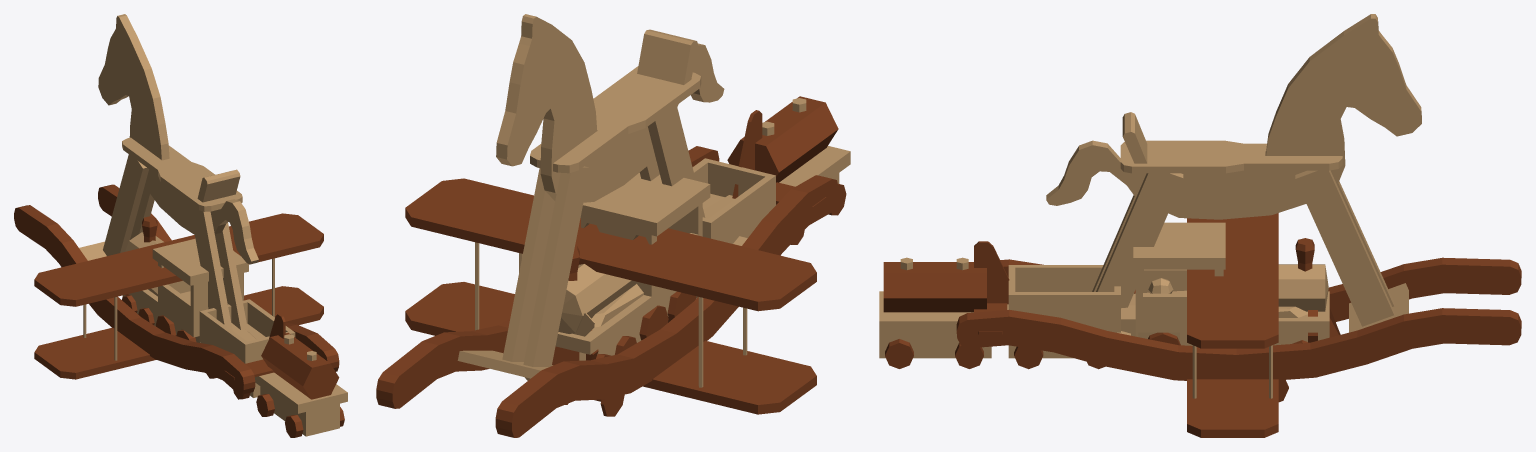
The model's file is Wood_Toys.fbx.
The picture shows the model from 3 angles, left to right: view 1: azimuth 30°, elevation 25°; view 2: azimuth 150°, elevation 25°; view 3: azimuth 270°, elevation 25°; orthographic projection. The views are drawn at different scales.
Parts seen in each view (by area): view 1: Horse, Plane, Car_02, Train, Car_01; view 2: Horse, Plane, Train, Car_02, Car_01; view 3: Horse, Plane, Train, Car_02, Car_01.
Boxes of the visible parts, <box> form: Horse: <box>14,14,339,394</box>; Plane: <box>34,213,323,380</box>; Car_02: <box>255,332,347,437</box>; Train: <box>122,216,248,342</box>; Car_01: <box>199,299,295,399</box>; Horse: <box>376,14,838,437</box>; Plane: <box>405,110,826,416</box>; Train: <box>552,172,710,365</box>; Car_02: <box>727,96,850,244</box>; Car_01: <box>692,158,775,297</box>; Horse: <box>956,14,1521,380</box>; Plane: <box>974,213,1307,437</box>; Train: <box>1133,222,1340,345</box>; Car_02: <box>879,257,991,368</box>; Car_01: <box>1008,265,1120,369</box>.
Size of the model in its own units: 38.59 by 43.08 by 66.18.
3 materials, 3 textured.
